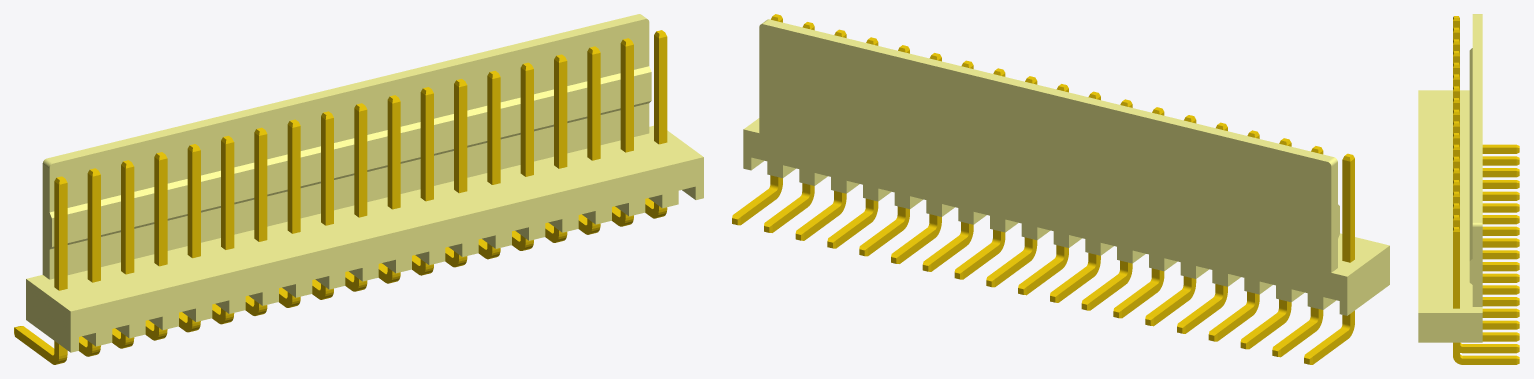
Rendered from DS1070-19MR (WF-19RA CONNFLY).obj.
3 renders of one model, left to right at view 1: azimuth 30°, elevation 25°; view 2: azimuth 150°, elevation 25°; view 3: azimuth 270°, elevation 25°, orthographic. The views are drawn at different scales.
Visible parts, largest first — view 1: DS1070-19MR_(WF-19RA_CONNFLY); view 2: DS1070-19MR_(WF-19RA_CONNFLY); view 3: DS1070-19MR_(WF-19RA_CONNFLY).
Part boxes in pixels (x1=…): DS1070-19MR_(WF-19RA_CONNFLY): x1=14, y1=14, x2=703, y2=364; DS1070-19MR_(WF-19RA_CONNFLY): x1=732, y1=14, x2=1389, y2=364; DS1070-19MR_(WF-19RA_CONNFLY): x1=1418, y1=14, x2=1519, y2=364.
Size of the model in its own units: 0.0282 by 0.00824 by 0.00544.
